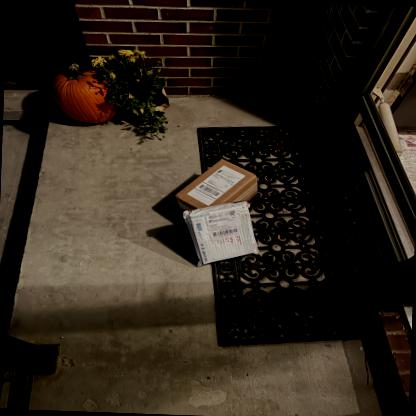box: (176, 158, 258, 210)
plastic_bag: (183, 202, 259, 266)
